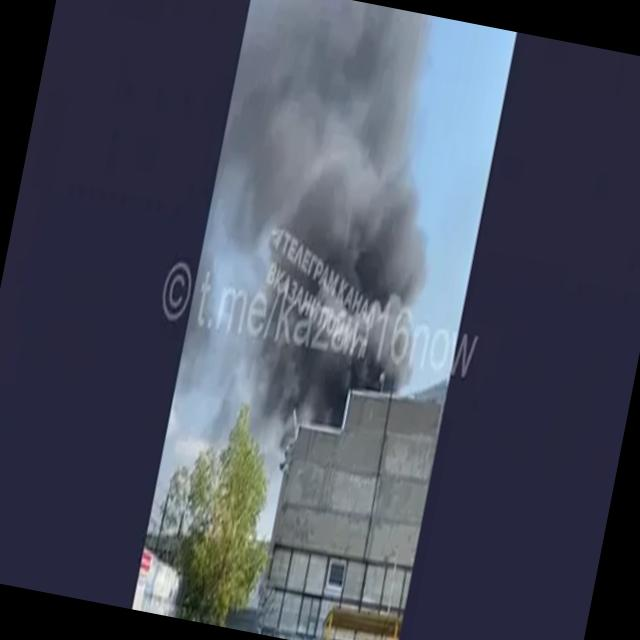Smoke: (179, 0, 477, 403)
